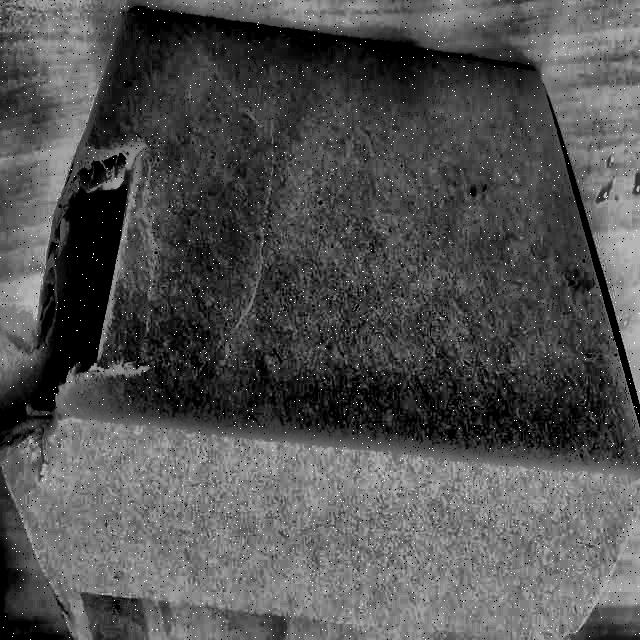box: (0, 0, 640, 640)
hole: (0, 161, 130, 454)
